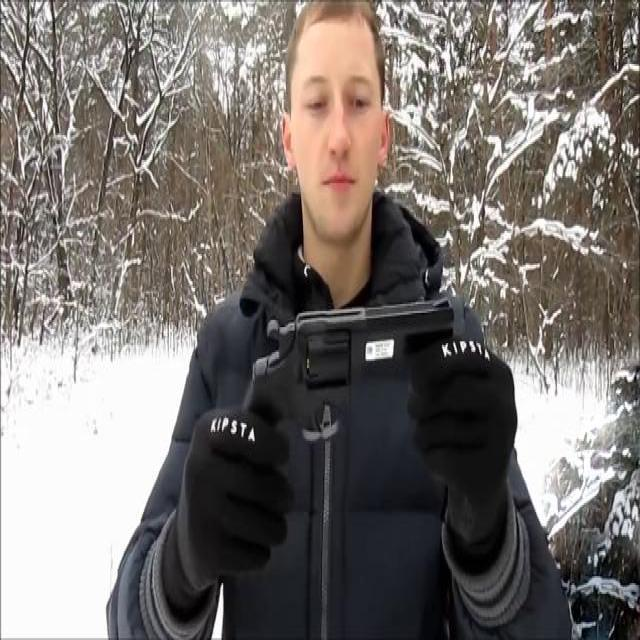pistol: (248, 298, 462, 460)
